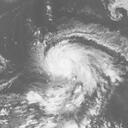cyclone: (31, 22, 119, 92)
